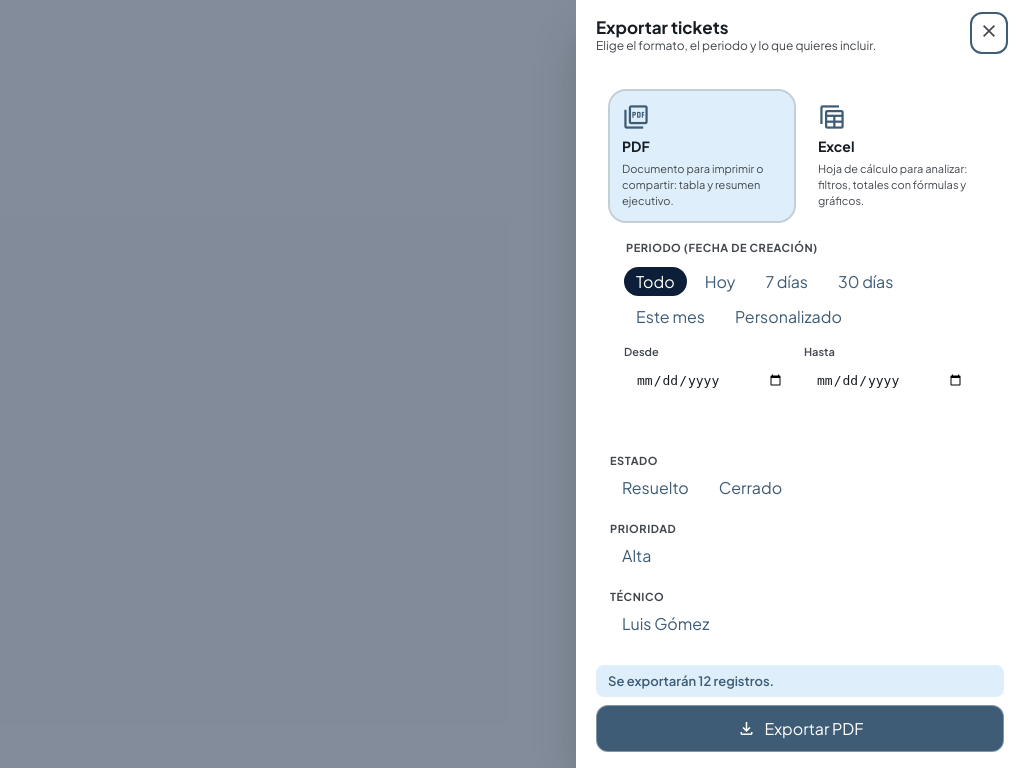
ExportDrawerComponent › dates › rejects a start date in the future
In the date field labelled "Desde": (710, 380) [624, 360, 796, 400], type "2999-01-01"
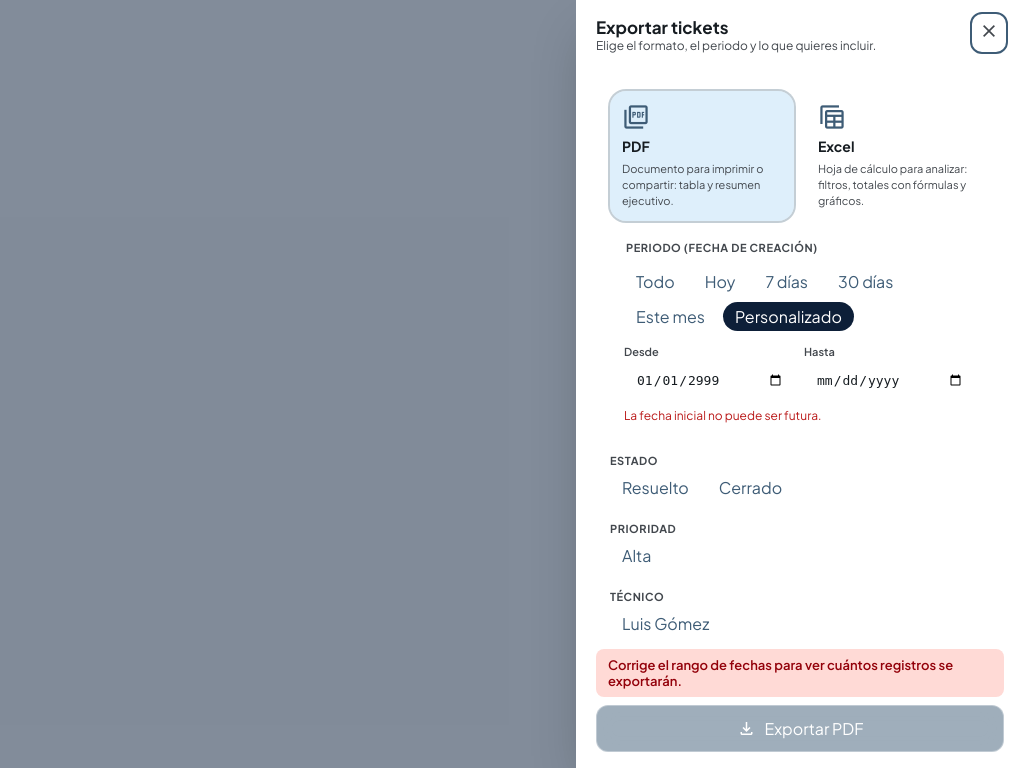
Now the message "La fecha inicial no puede ser futura." is shown, box [624, 408, 822, 423]
